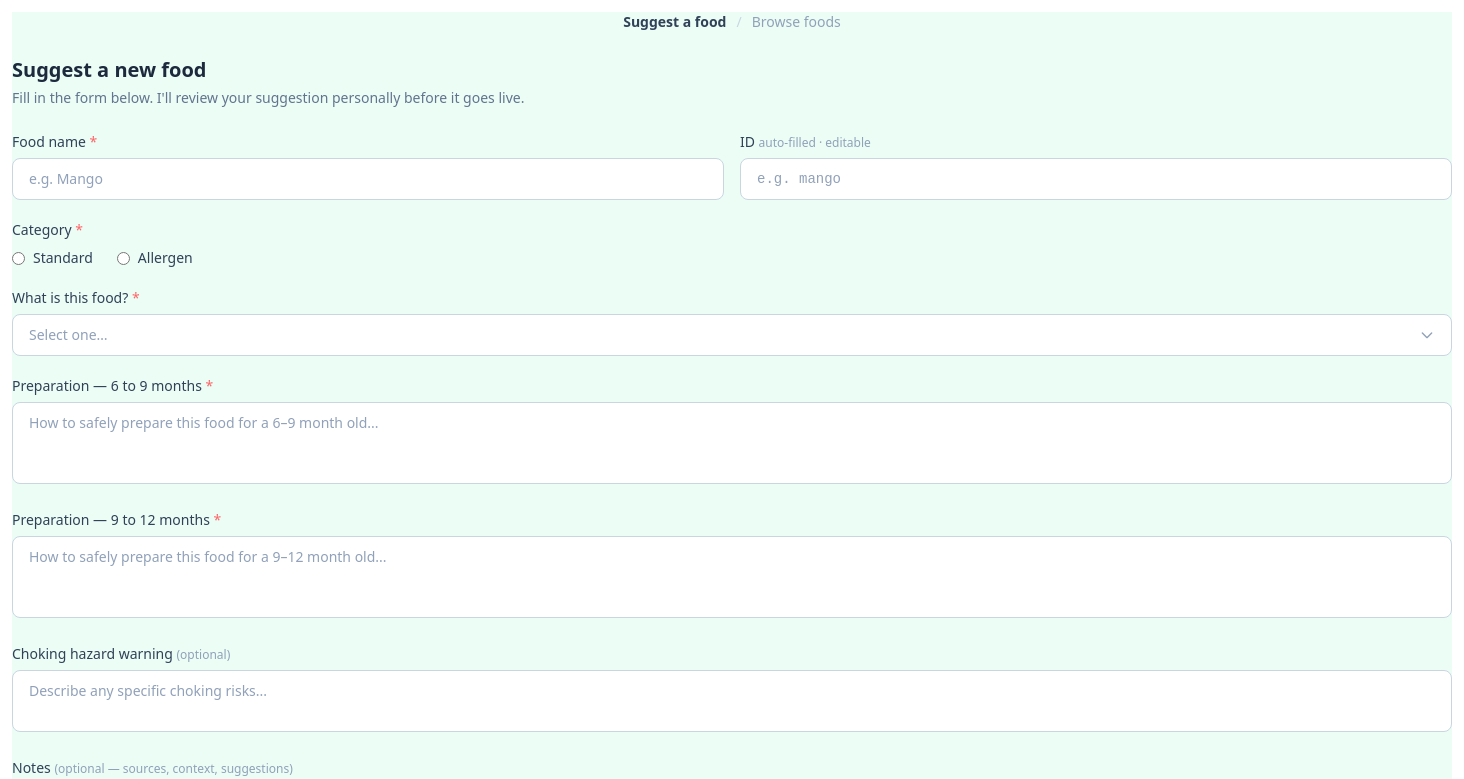
Test case: ContributeForm — duplicate detection › shows a warning immediately when an existing food name is typed
Step 1. Type "Broccoli" into the field with placeholder "e.g. Mango" → (368, 179), box [12,158,724,200]
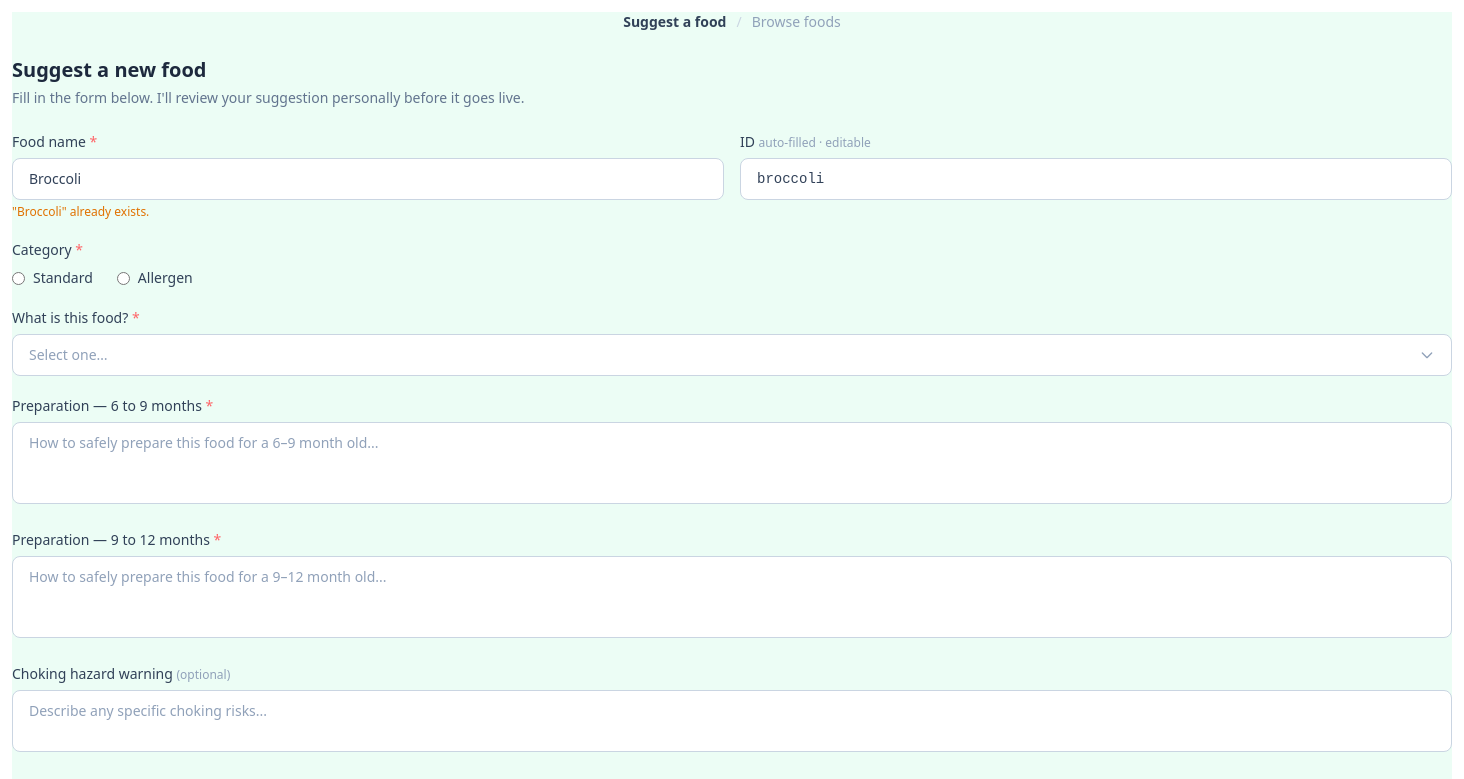
Expected: the text "\"Broccoli\" already exists." is shown, [12,203,149,220]
